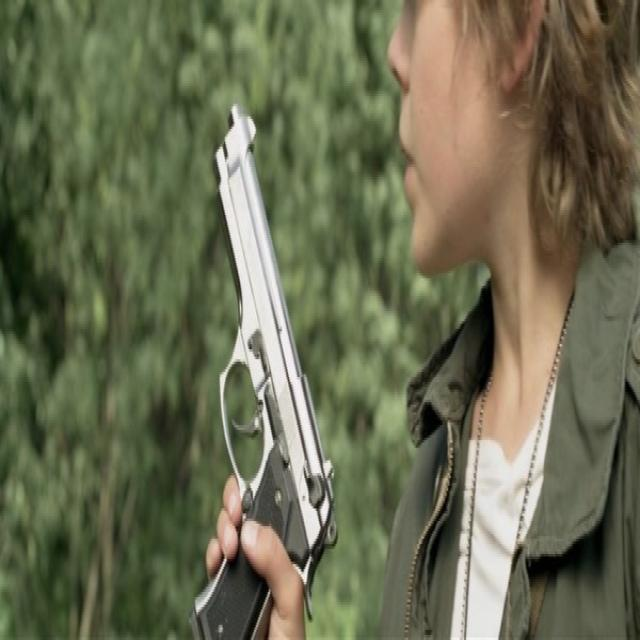weapons: (180, 86, 338, 640)
